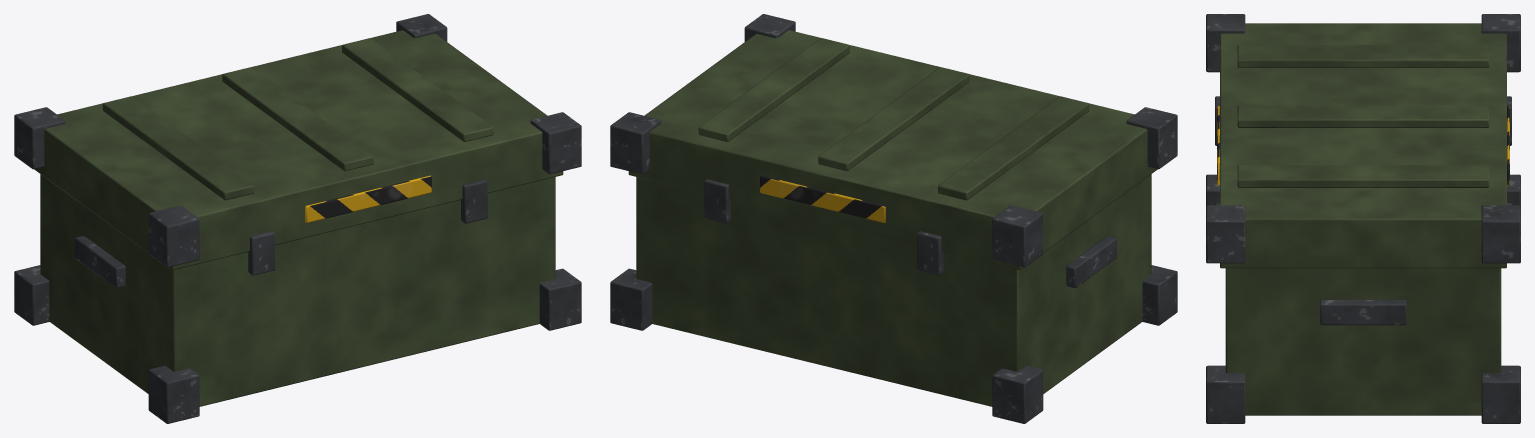
Rendered from COV_Tactical_Crate.glb.
The picture shows the model from 3 angles, left to right: view 1: azimuth 30°, elevation 25°; view 2: azimuth 150°, elevation 25°; view 3: azimuth 270°, elevation 25°; orthographic projection. The views are drawn at different scales.
Parts seen in each view (by area): view 1: COV_Tactical_Crate_Mesh; view 2: COV_Tactical_Crate_Mesh; view 3: COV_Tactical_Crate_Mesh.
Boxes of the visible parts, x1,y1,x2,y2 form: COV_Tactical_Crate_Mesh: (14, 14, 581, 423); COV_Tactical_Crate_Mesh: (610, 14, 1177, 423); COV_Tactical_Crate_Mesh: (1206, 14, 1520, 423).
Size of the model in its own units: 1.25 by 0.5845 by 0.8.
3 materials, 3 textured.
